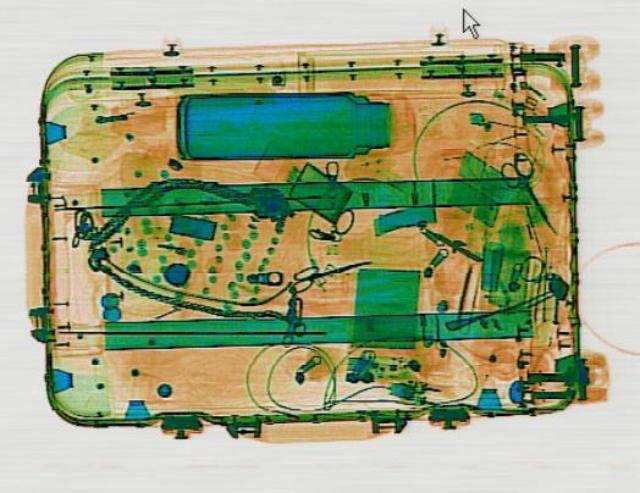Scissors: (487, 148, 573, 237), (278, 250, 374, 293)
